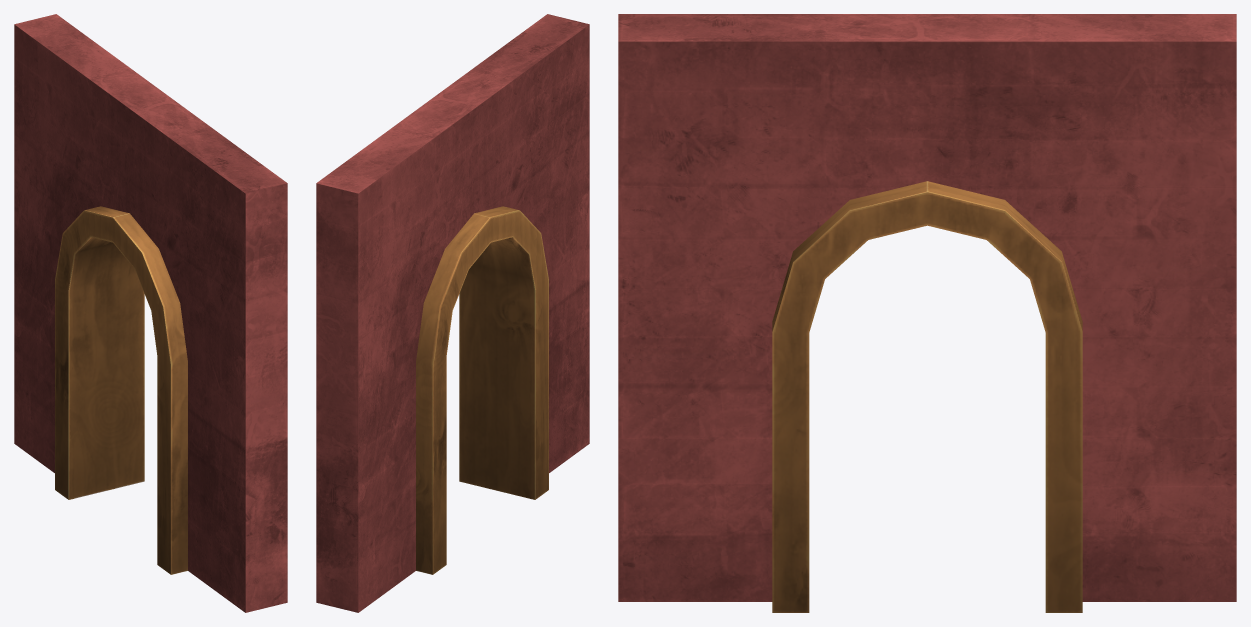
The model's file is wallDoor.fbx.
3 renders of one model, left to right at view 1: azimuth 30°, elevation 25°; view 2: azimuth 150°, elevation 25°; view 3: azimuth 270°, elevation 25°, orthographic. The views are drawn at different scales.
Parts seen in each view (by area): view 1: Cube.132; view 2: Cube.132; view 3: Cube.132.
Boxes of the visible parts, <box> form: Cube.132: <box>14,14,287,612</box>; Cube.132: <box>316,14,589,612</box>; Cube.132: <box>618,14,1236,612</box>.
Size of the model in its own units: 37.96 by 200 by 200.
